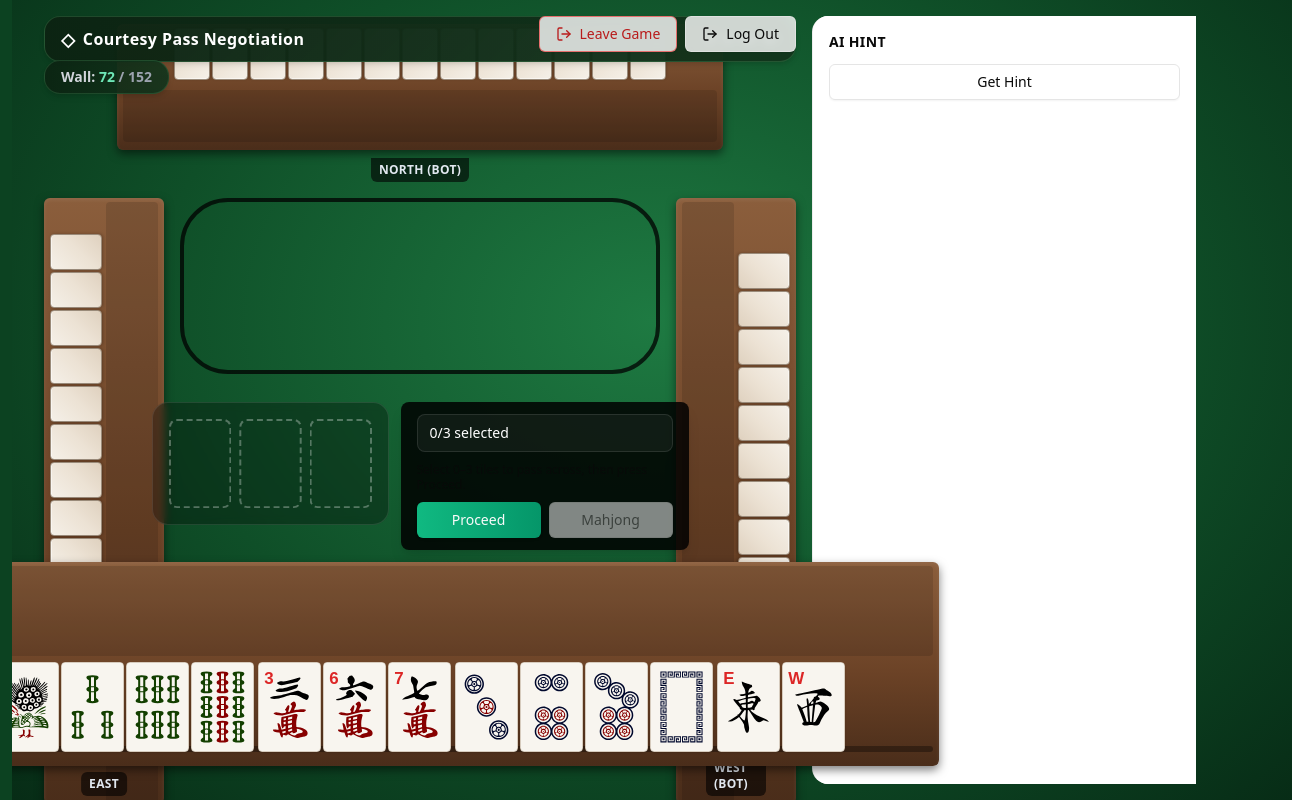
Test: US-051: Charleston Courtesy Pass Action Pane › clears down to the agreed mismatch count and keeps old courtesy overlays absent
Step 1. Click the button named "3 Bam" → (92, 707), box [60, 662, 124, 752]
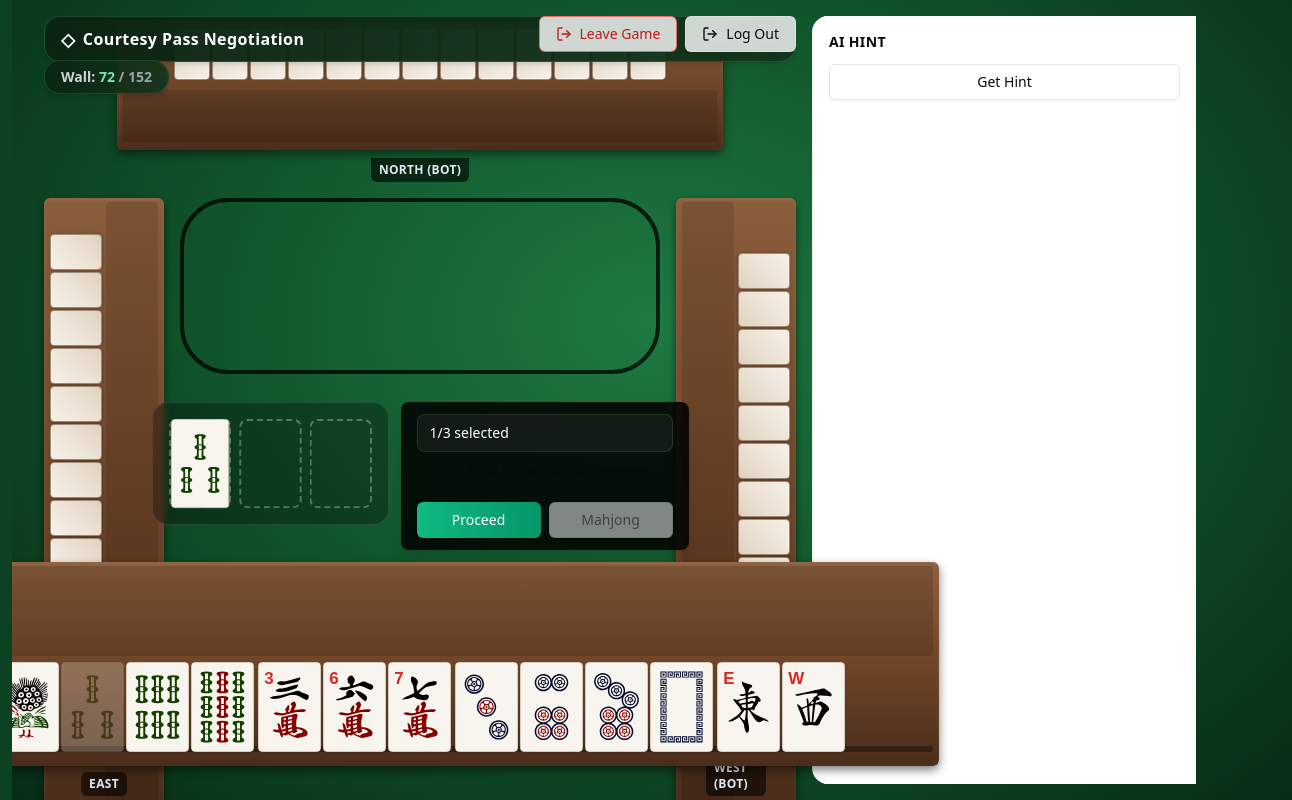
Step 2. Click the button named "6 Bam" → (157, 707), box [126, 662, 188, 752]
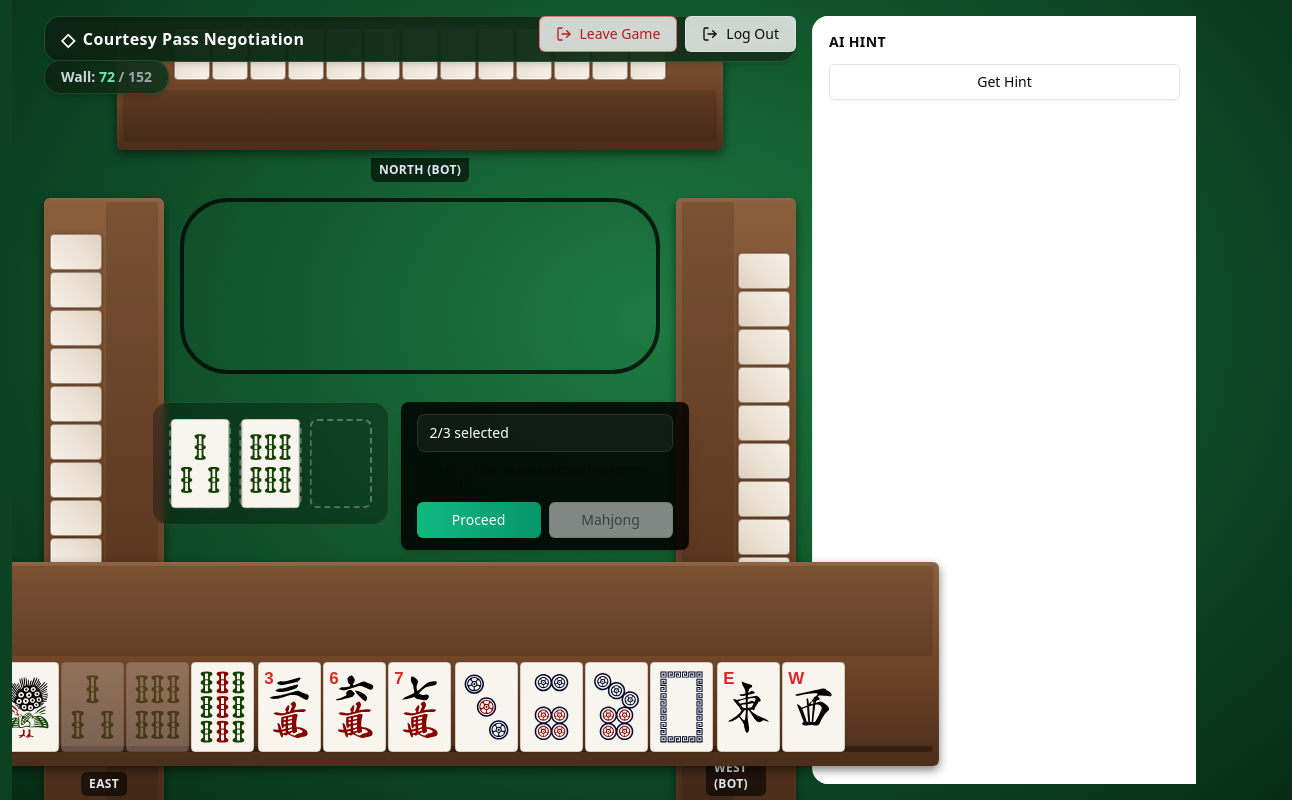
Step 3. Click the button named "9 Bam" → (222, 707), box [190, 662, 254, 752]
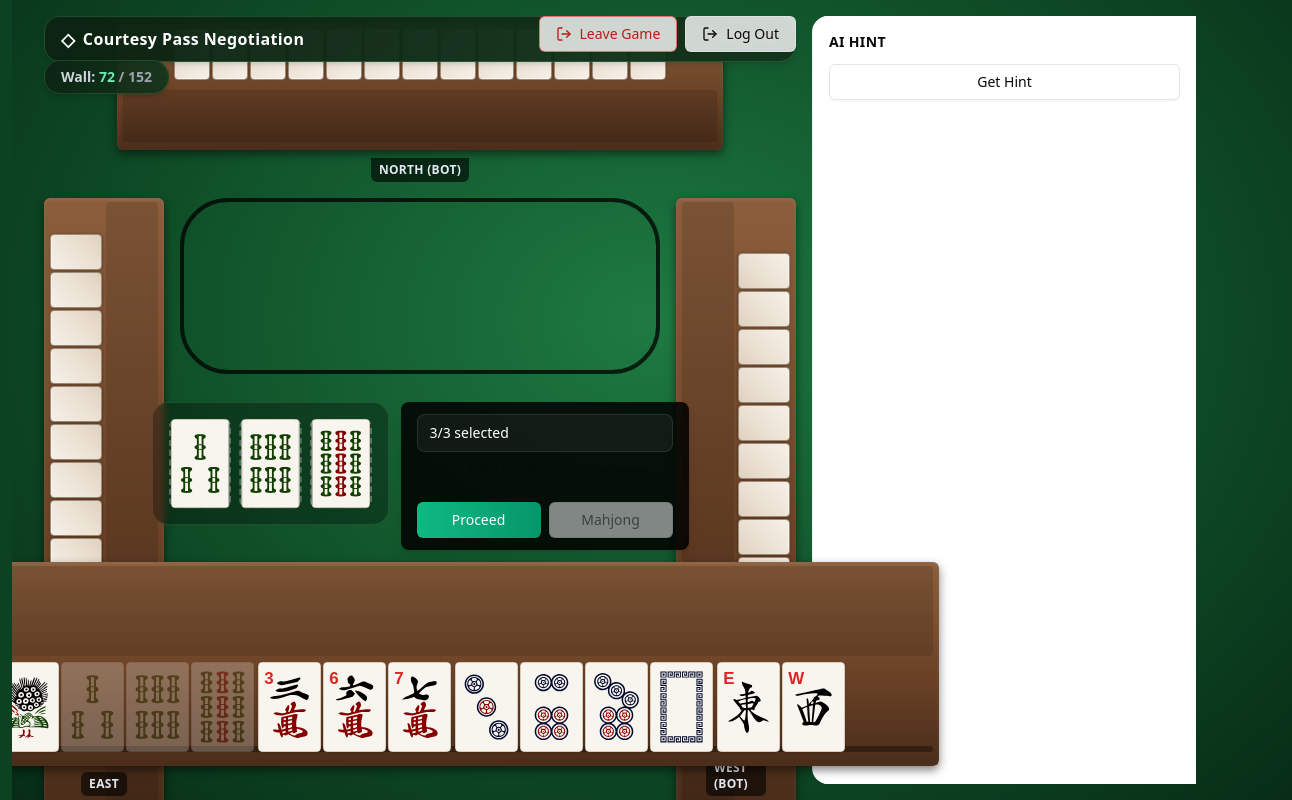
Step 4. Click the button with test id "proceed-button" → (478, 520), box [416, 502, 540, 538]
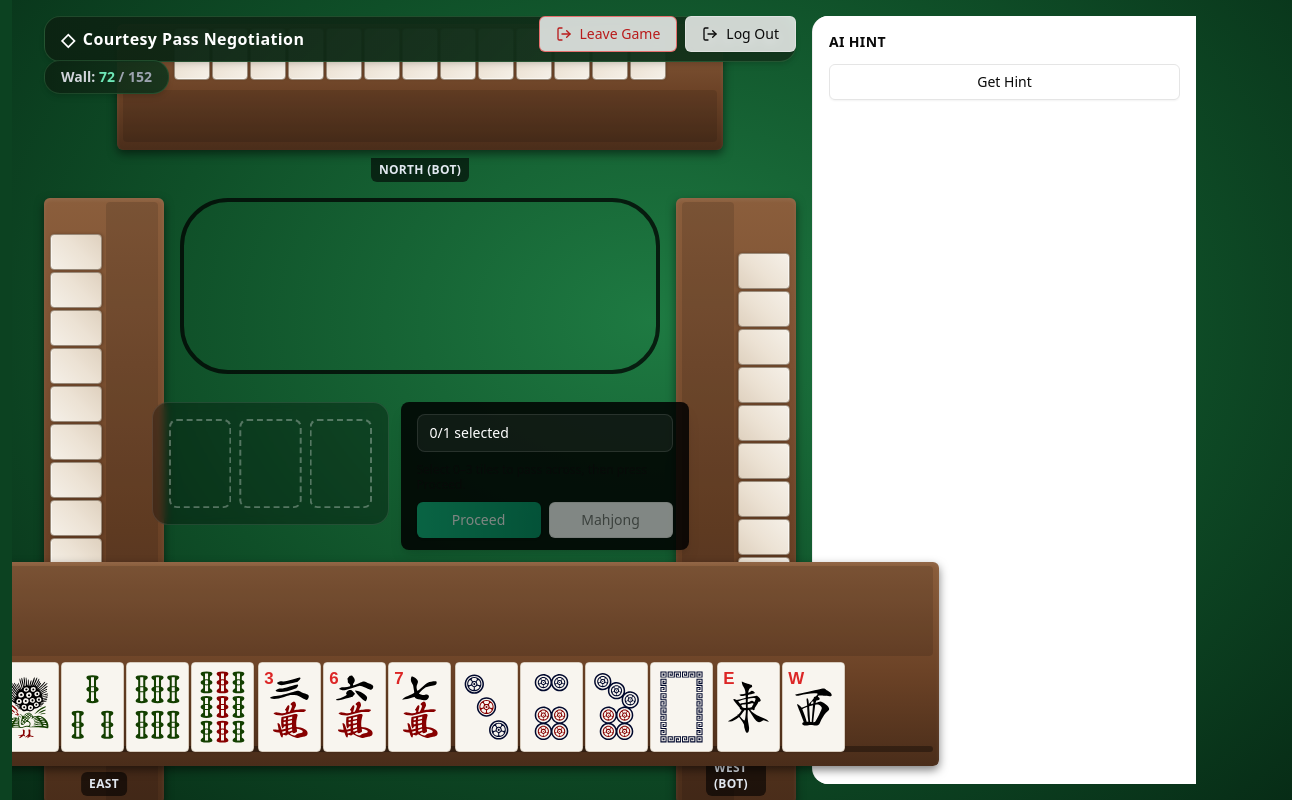
Expected: the button with test id "declare-mahjong-button" is shown, [548, 502, 672, 538]
Result: the text with test id "selection-counter" shows "0/1" at [430, 423, 509, 442]
Result: the button with test id "proceed-button" is disabled at [416, 502, 540, 538]
